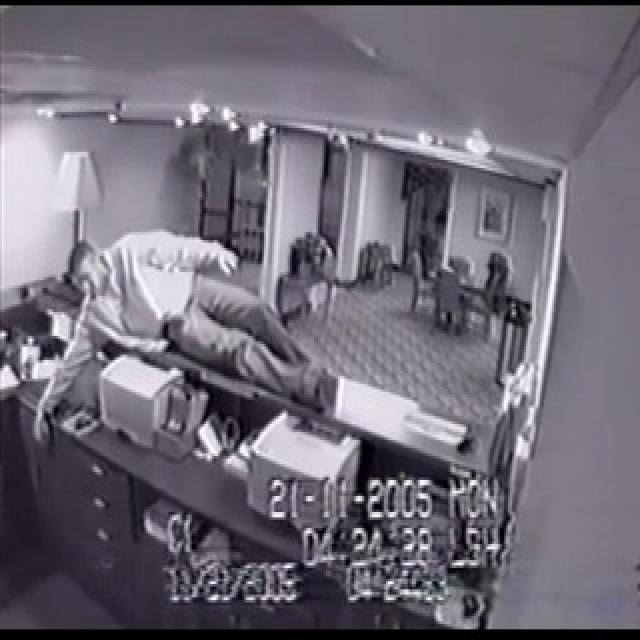thief: (44, 212, 325, 472)
